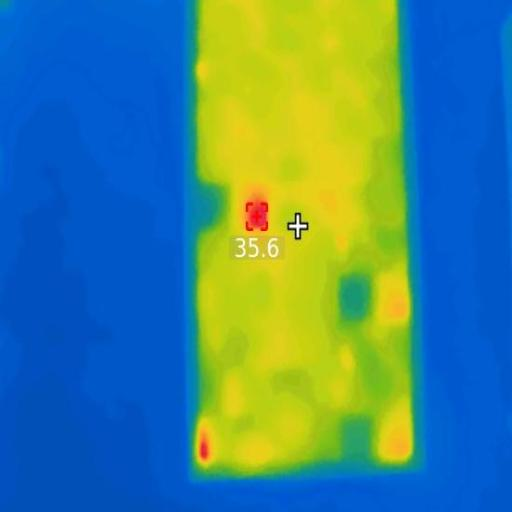hotspot: (248, 198, 266, 232), (198, 424, 209, 472)
